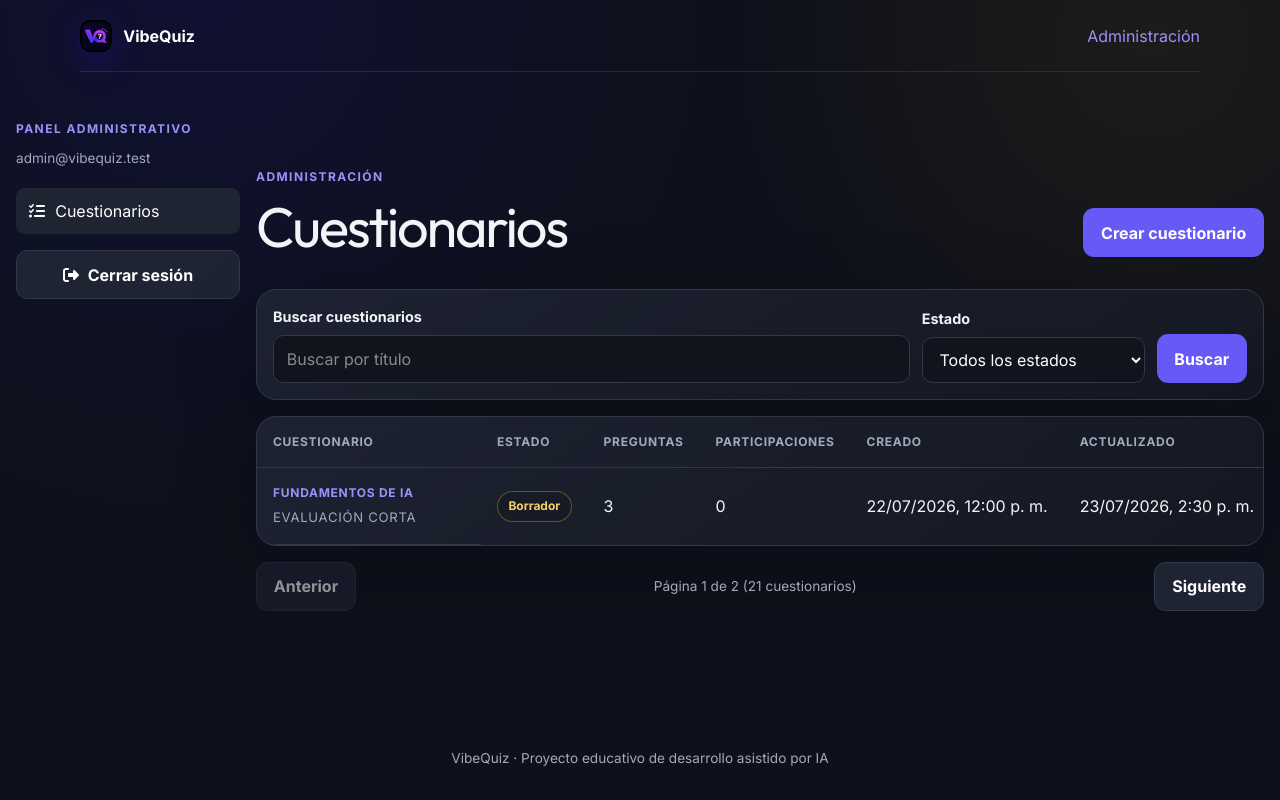
Test case: administrative quiz list › changes pages using backend metadata
Click the button "Siguiente": (1209, 586) left=1154, top=562, right=1264, bottom=611
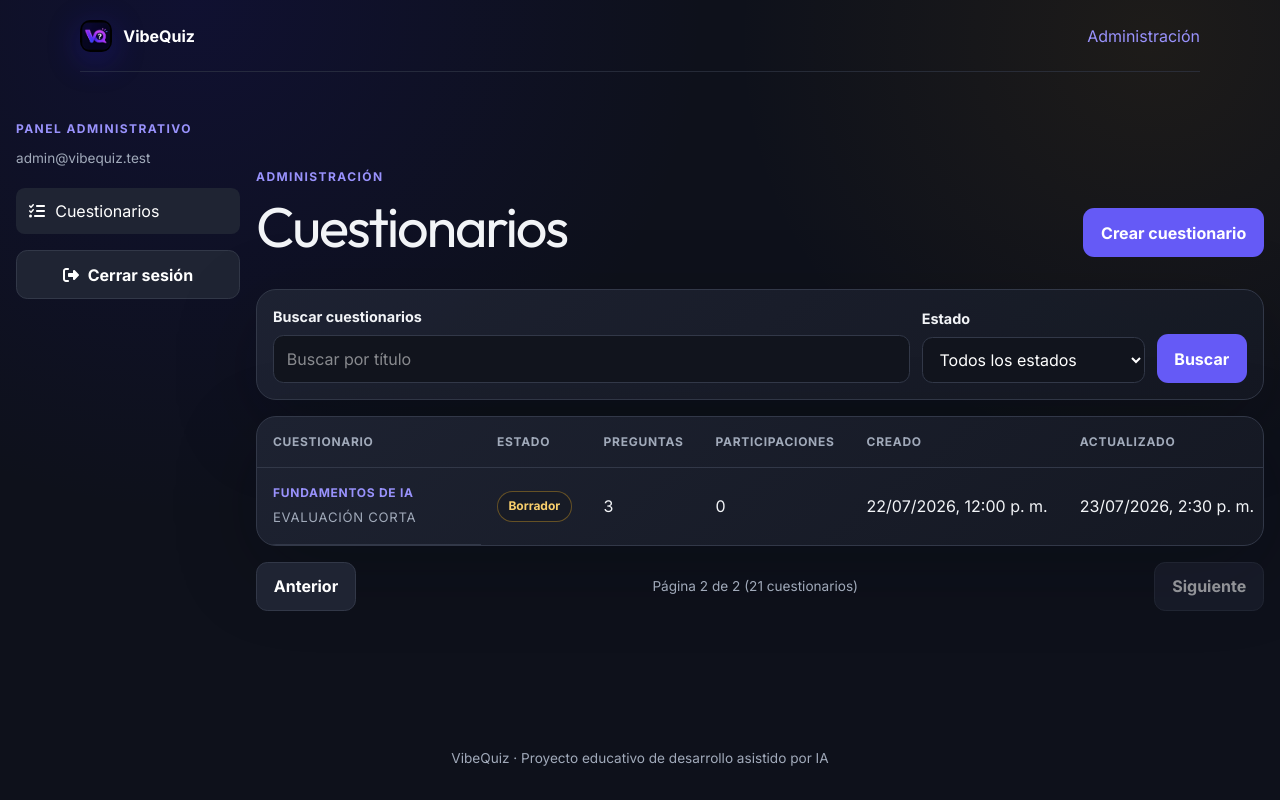
Now the text "Página 2 de 2 (21 cuestionarios)" is shown, box left=652, top=576, right=858, bottom=596
